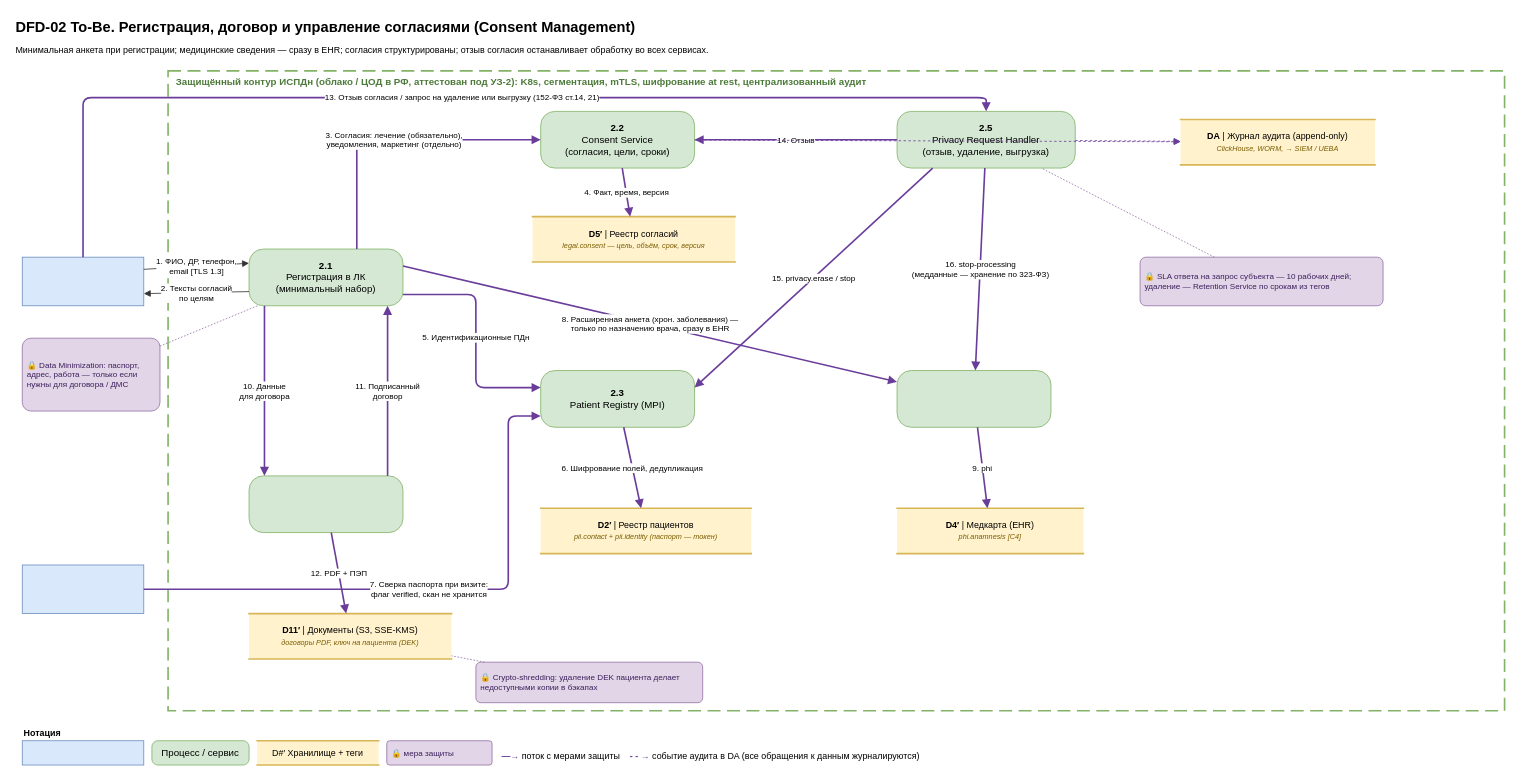
Image size: 1526x779. Some labels were removed from this diagram. Here are the shapes that lost their labels. From the top down, the centre of each, then its label:
At [82,281]: "Пациент".
At [973,398]: "2.6 EHR Service".
At [325,504]: "2.4 Договор с ПЭП (подпись SMS-кодом)".
At [82,589]: "Ресепшен".
At [82,752]: "Внешняя сущность / роль".
